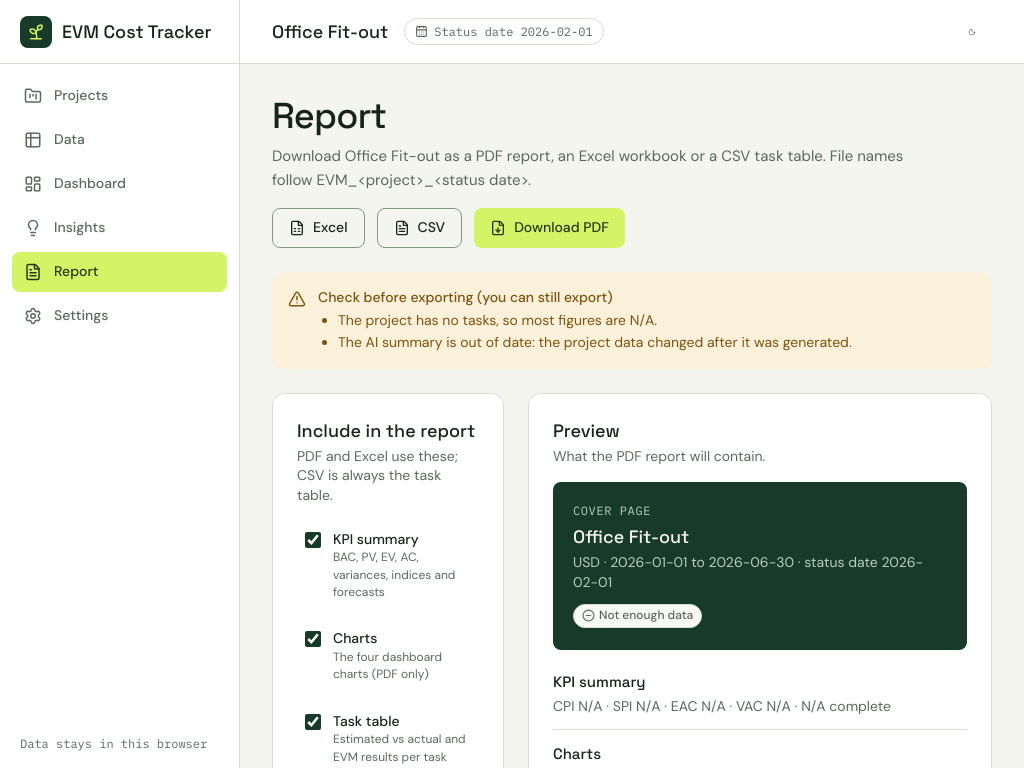
Test: Report page (FR-40…FR-43) › CT-RPT-06 warns before export (no tasks / out-of-date summary) but allows it
The image size is (1024, 768).
Expected: the text with test id "current-project" reads "Office Fit-out", [272,20,388,43]
Expected: the list item "The project has no tasks, so most figures are N/A." is shown, [338,312,657,330]
Click the button "Download PDF": (550,228) [474,208,625,248]
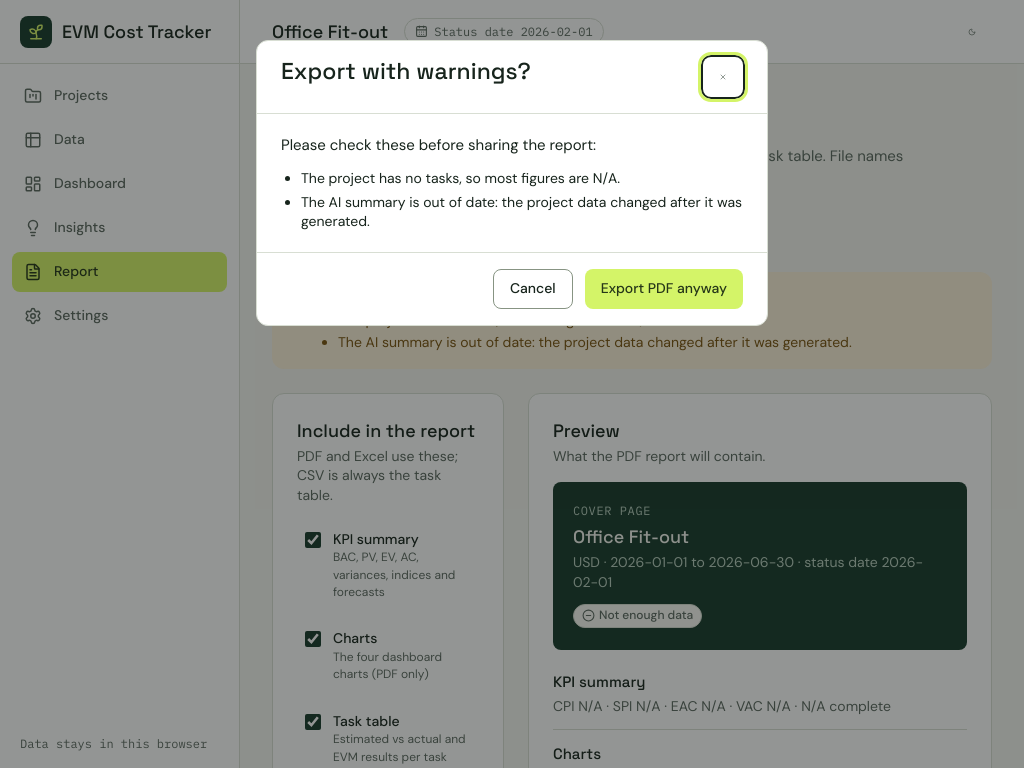
Click the button "Cancel": (533,289) [493,269,573,309]
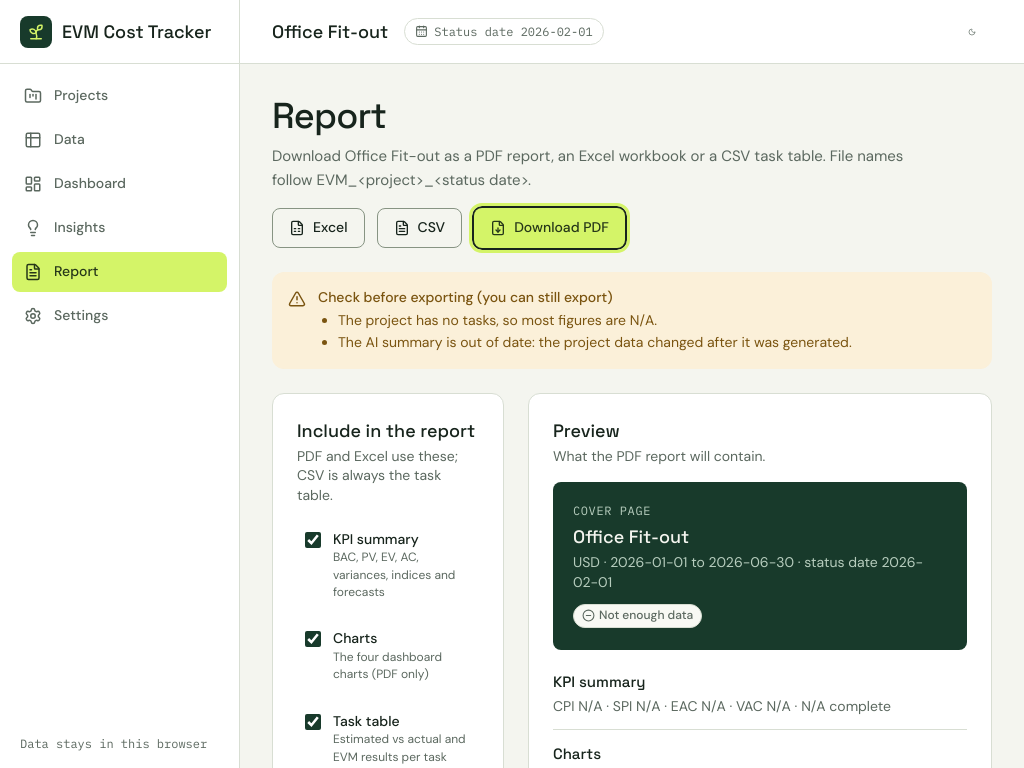
Click the button "CSV": (419,228) [376,208,462,248]
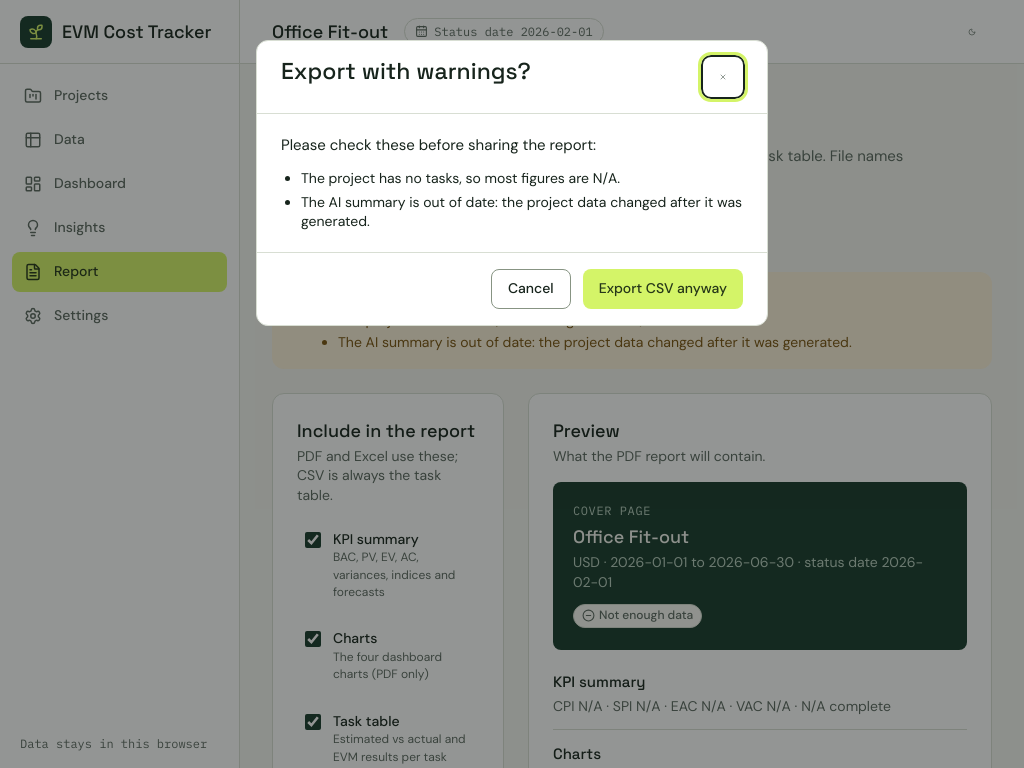
Click the button "Export CSV anyway": (663,289) [583,269,743,309]
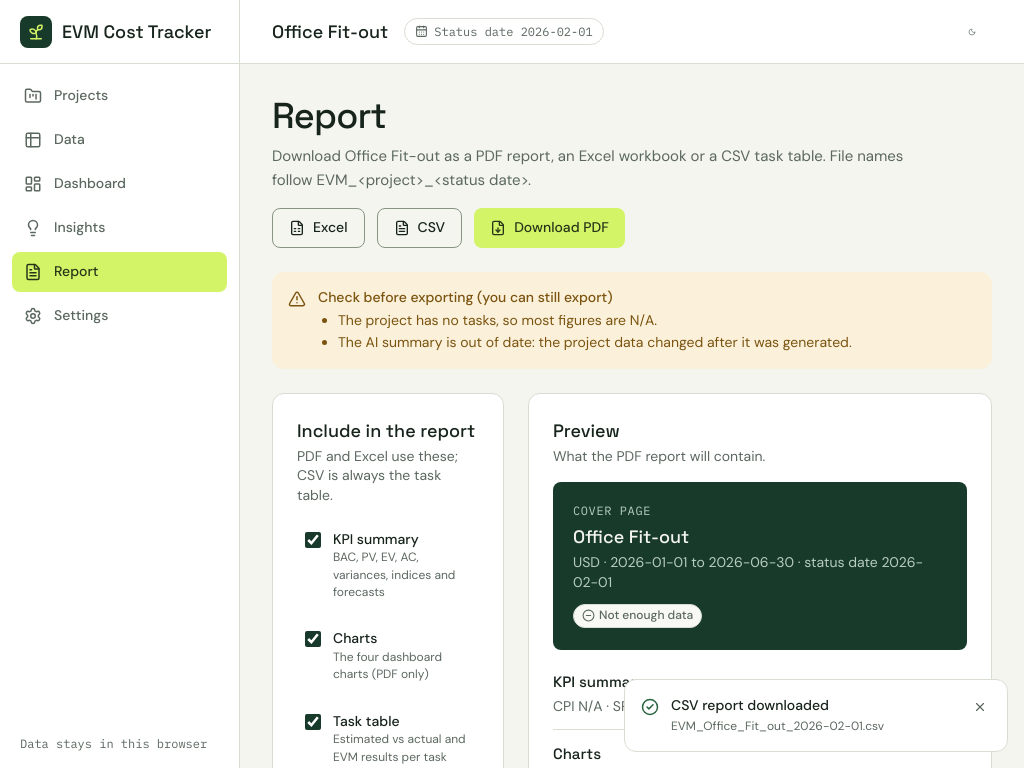
Result: the text "EVM_Office_Fit_out_2026-02-01.csv" is shown at [671,718,884,734]
